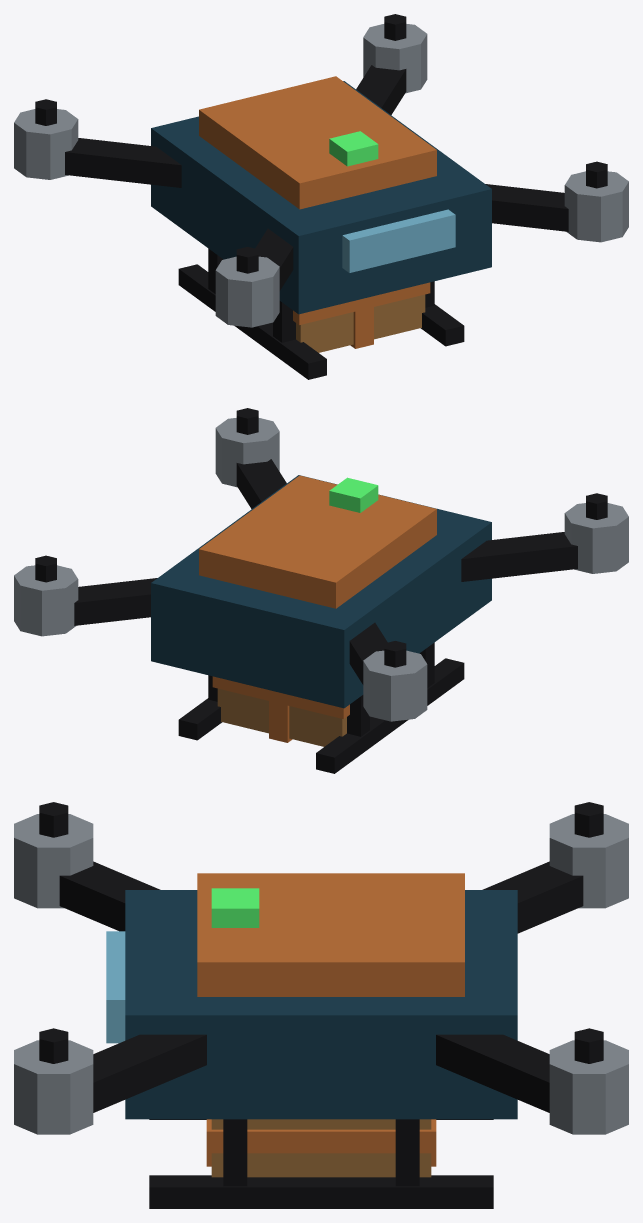
Rendered from drone.obj.
The picture shows the model from 3 angles, top to bottom: view 1: azimuth 30°, elevation 25°; view 2: azimuth 150°, elevation 25°; view 3: azimuth 270°, elevation 25°; orthographic projection. The views are drawn at different scales.
Visible parts, largest first — view 1: Body, Crate, Lamp; view 2: Body, Crate, Lamp; view 3: Body, Crate, Lamp.
Part boxes in pixels (box(x1,y1,x2,y2)): Body: box(14, 14, 628, 379); Crate: box(293, 282, 430, 352); Lamp: box(329, 131, 378, 166); Body: box(14, 408, 628, 773); Crate: box(212, 676, 349, 746); Lamp: box(329, 477, 378, 512); Body: box(14, 802, 628, 1208); Crate: box(206, 1119, 436, 1177); Lamp: box(211, 888, 259, 927).
Size of the model in its own units: 1.29 by 0.605 by 1.29.
